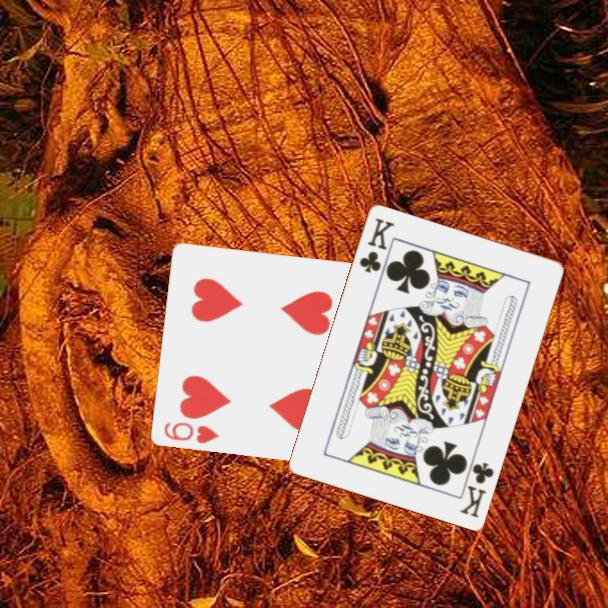c13: (355, 214, 397, 275), (456, 458, 497, 520)
h06: (161, 418, 222, 446)
